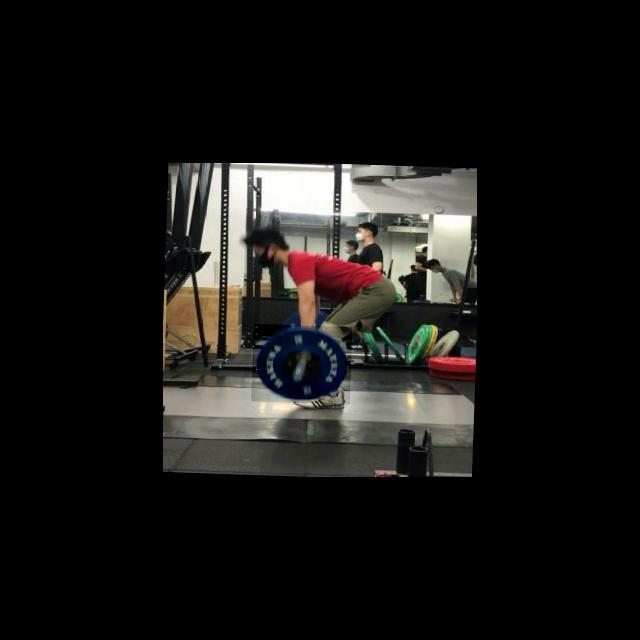barbell: (251, 323, 352, 404)
